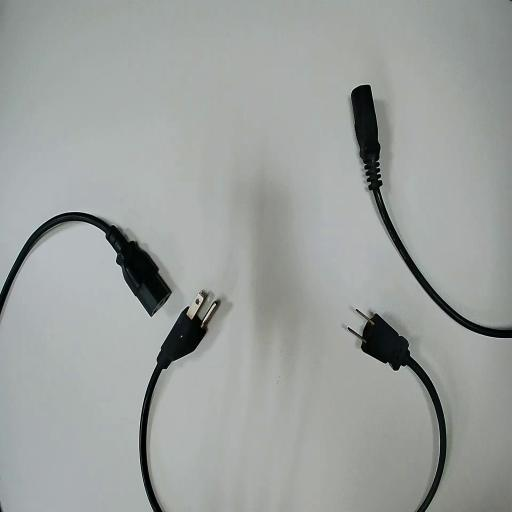wire: (352, 86, 511, 336), (0, 213, 170, 313), (361, 315, 445, 511), (140, 309, 208, 511)
